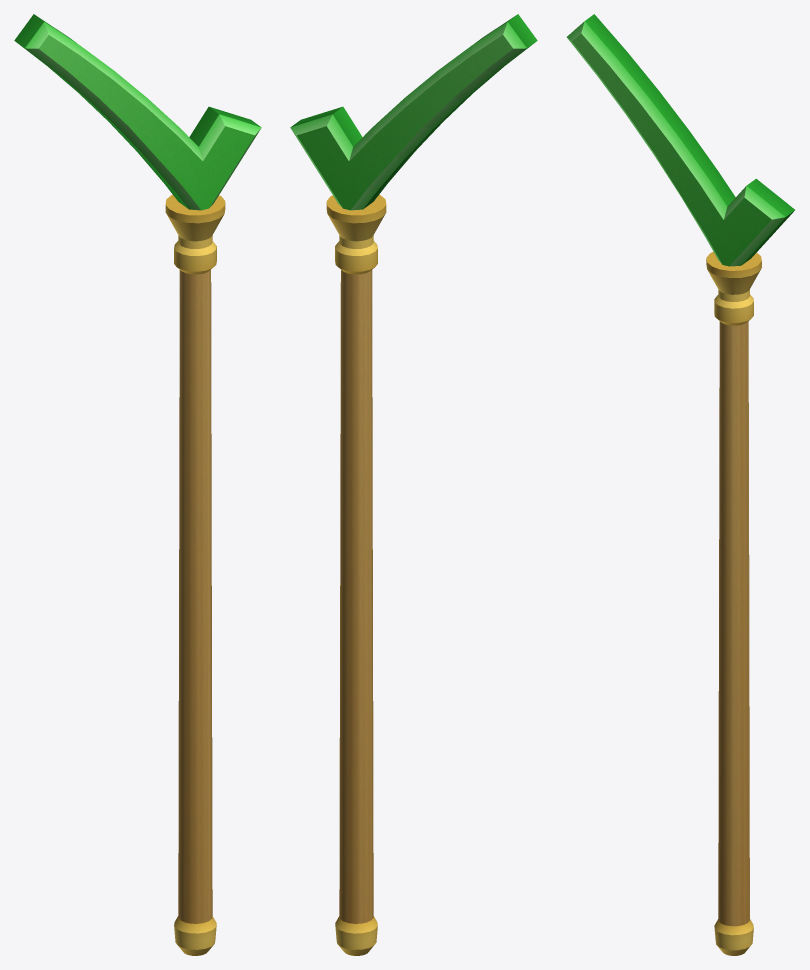
Rendered from check_staff.obj.
3 views of the same model, side by side, from view 1: azimuth 30°, elevation 25°; view 2: azimuth 150°, elevation 25°; view 3: azimuth 330°, elevation 25° (orthographic). The views are drawn at different scales.
Visible parts, largest first — view 1: CheckStaff; view 2: CheckStaff; view 3: CheckStaff.
Part boxes in pixels (x1,y1,x2,y2): CheckStaff: (14,14,261,955); CheckStaff: (290,14,537,955); CheckStaff: (567,14,794,955).
Bounding box in the file's own units: 0.9516 × 3.73 × 0.21.
Materials: 1 (1 with a texture image).
